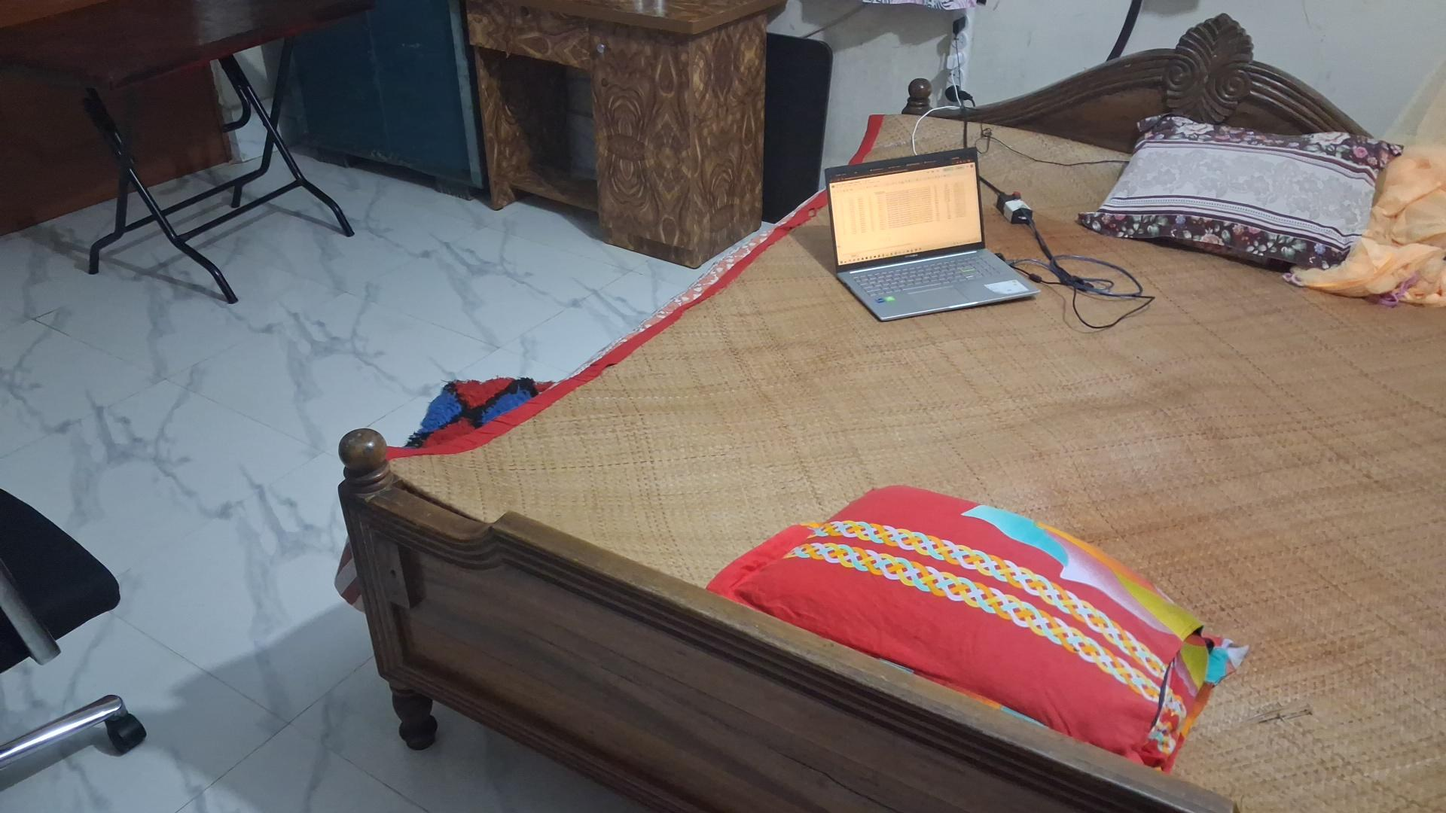Laptop: (825, 147, 1041, 322)
Pillow: (707, 485, 1248, 779), (1087, 116, 1409, 277)
Table: (5, 0, 359, 298)
